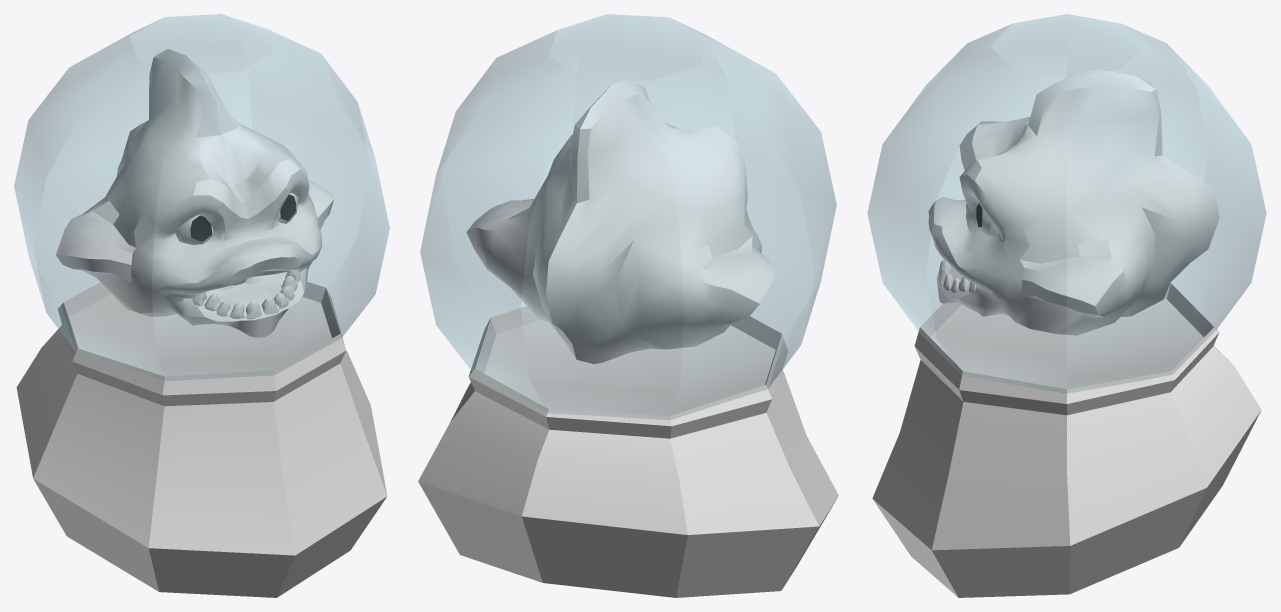
The model's file is H_fishbowl.fbx.
3 views of the same model, side by side, from view 1: azimuth 30°, elevation 25°; view 2: azimuth 150°, elevation 25°; view 3: azimuth 270°, elevation 25° (orthographic). The views are drawn at different scales.
Visible parts, largest first — view 1: Bowl, Standything, fishy, TeethsFish, Fisheyes; view 2: Bowl, Standything, fishy; view 3: Bowl, Standything, fishy, TeethsFish.
Boxes of the visible parts, x1=… form: Bowl: x1=14, y1=14, x2=389, y2=380; Standything: x1=16, y1=281, x2=387, y2=597; fishy: x1=56, y1=49, x2=334, y2=337; TeethsFish: x1=192, y1=269, x2=300, y2=319; Fisheyes: x1=175, y1=193, x2=298, y2=244; Bowl: x1=420, y1=14, x2=836, y2=419; Standything: x1=418, y1=306, x2=838, y2=597; fishy: x1=466, y1=81, x2=774, y2=364; Bowl: x1=867, y1=14, x2=1266, y2=393; Standything: x1=872, y1=283, x2=1261, y2=597; fishy: x1=928, y1=69, x2=1219, y2=335; TeethsFish: x1=939, y1=259, x2=976, y2=292.
Bounding box in the file's own units: 42.59 × 59.4 × 42.09.
